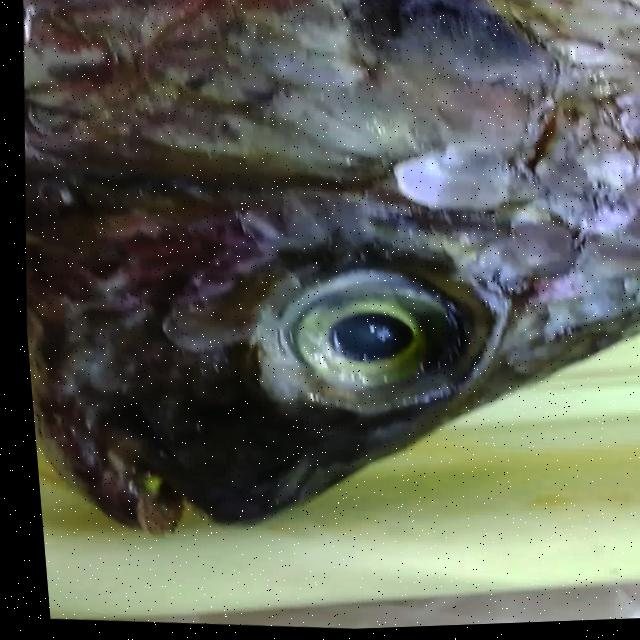Non-Fresh: (220, 242, 499, 435)
